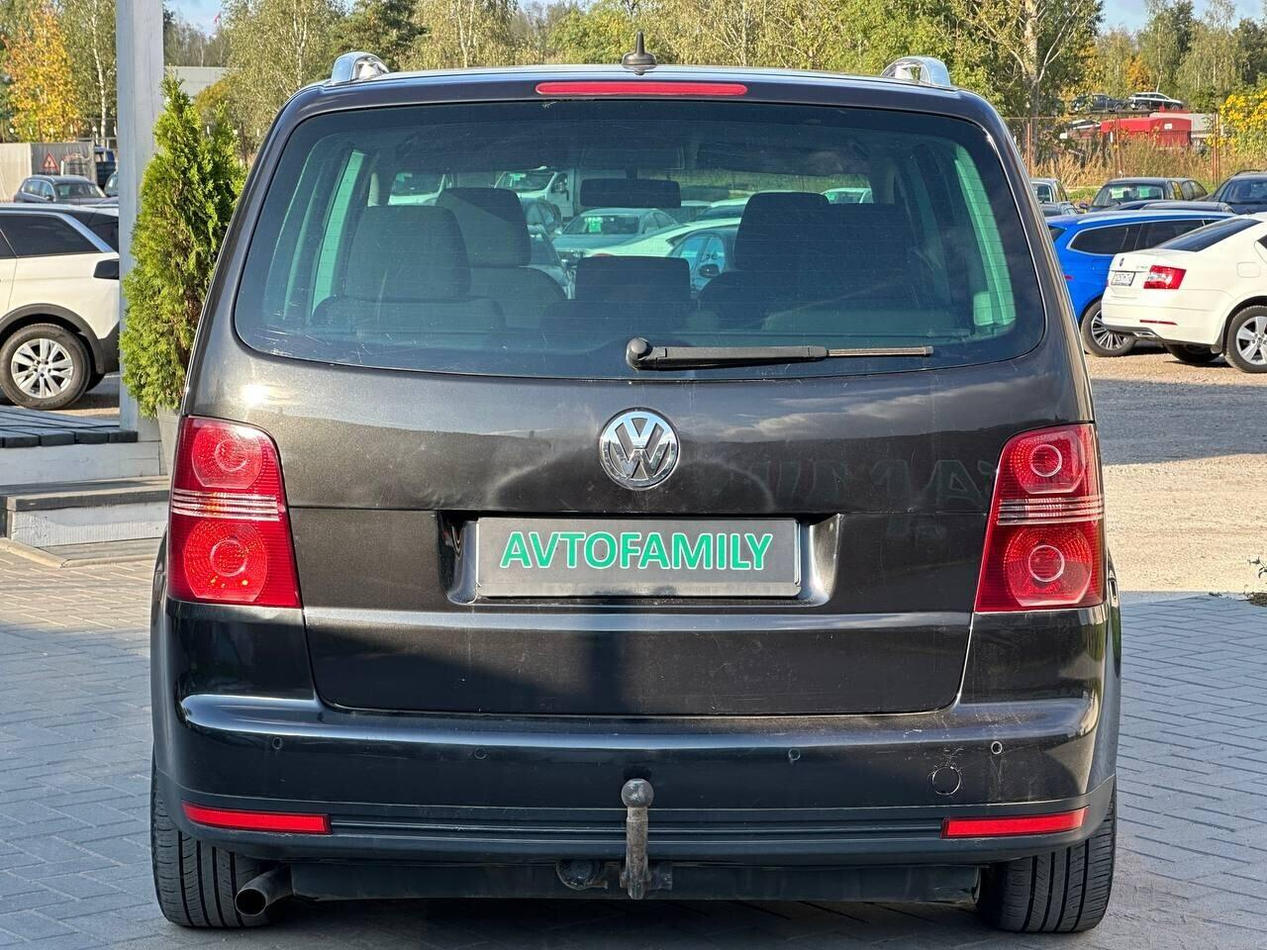Touran_2006-2010: (144, 62, 1121, 930)
